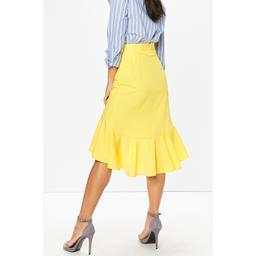skirt: (90, 43, 189, 178)
